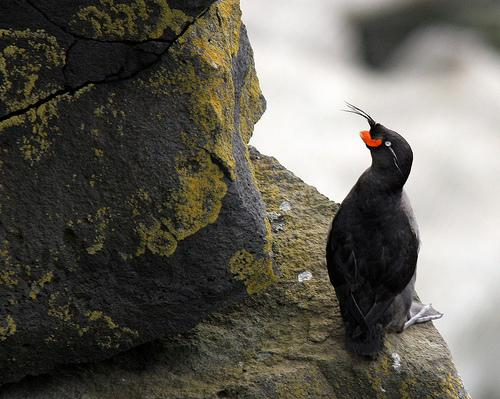005.Crested_Auklet: (326, 98, 441, 359)
